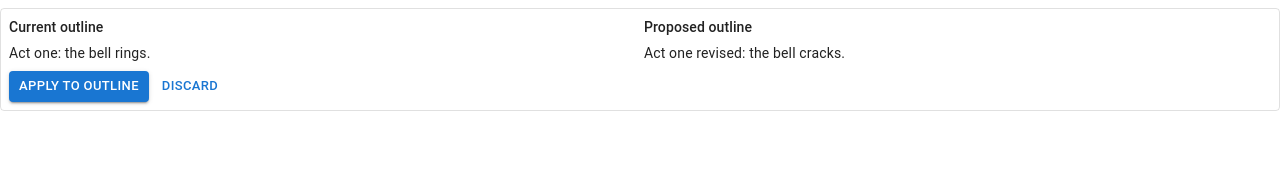
Test: OutlineRevision › keeps the server's reference on a failed apply
This screenshot has width=1280, height=184.
Click the button "Apply to outline".
click(79, 86)  # box 9,71 -> 149,102
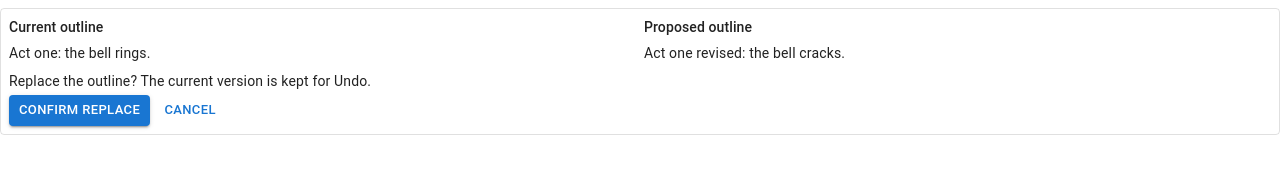
Click the button "Confirm replace".
click(80, 110)  # box 9,95 -> 150,126
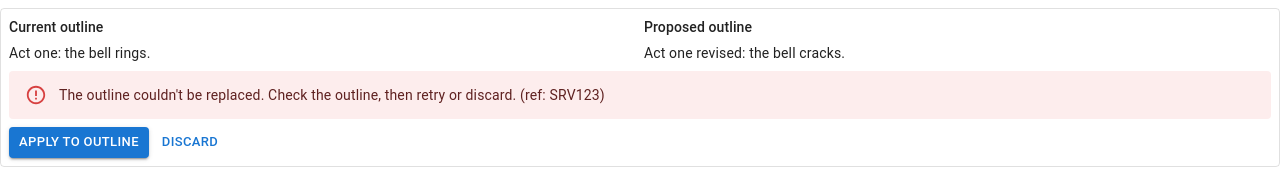
Expected: the text "couldn't be replaced" is shown, 59,87 -> 605,103
Expected: the text "(ref: SRV123)" is shown, 59,87 -> 605,103
